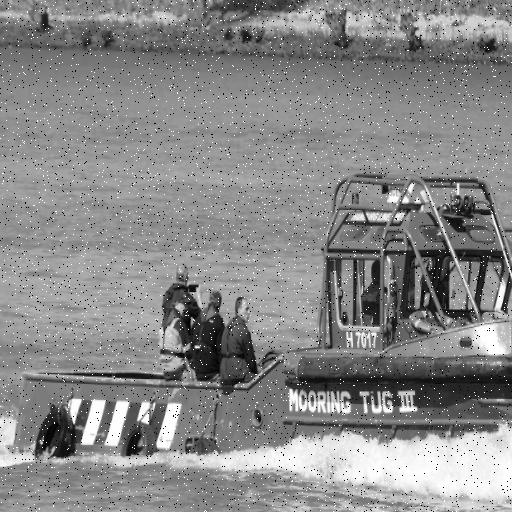tugboat: (1, 164, 512, 478)
